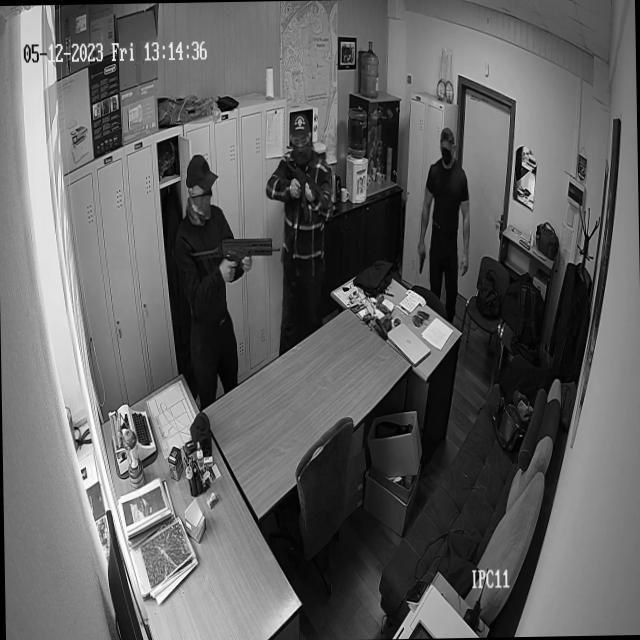gun: (192, 236, 282, 268), (283, 158, 329, 214), (418, 244, 428, 274)
person with a gun: (174, 157, 252, 390), (278, 114, 328, 326), (418, 131, 470, 310)
